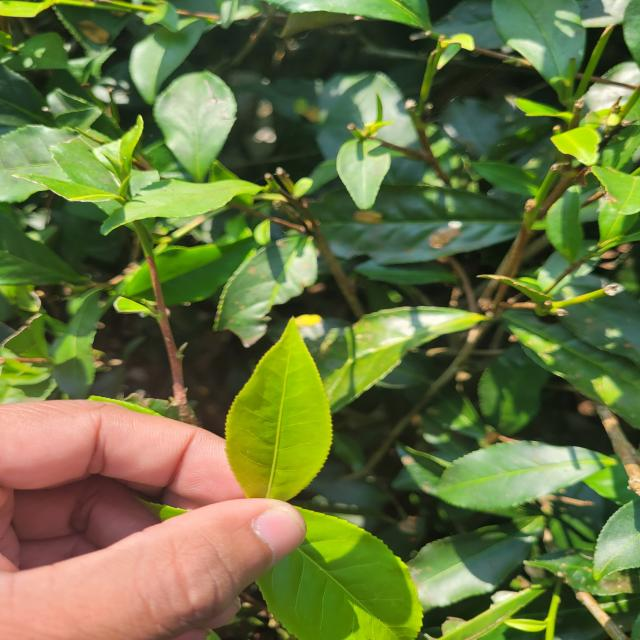Catagory A(1-2 days): (215, 312, 361, 515)
